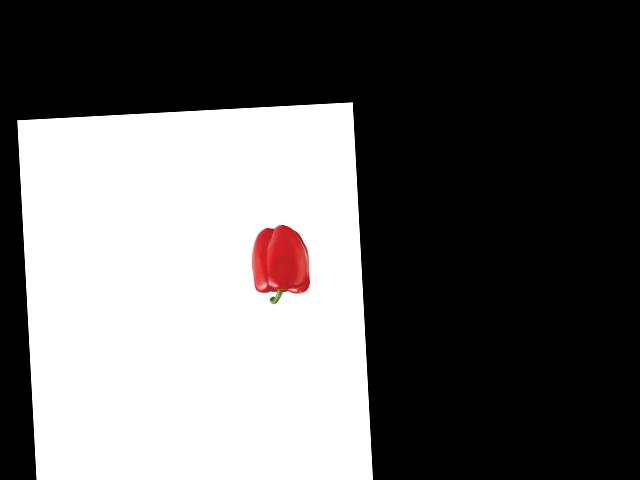bell_pepper: (246, 221, 314, 305)
